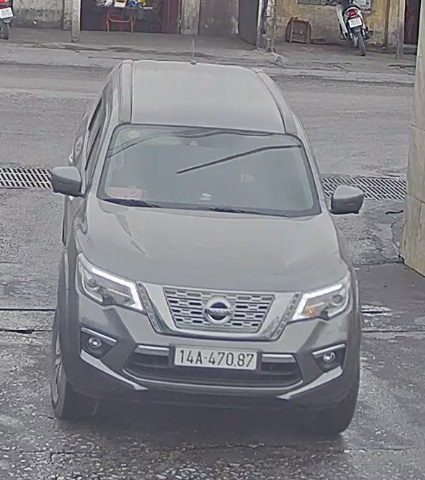vehicle plate: (168, 338, 260, 376)
